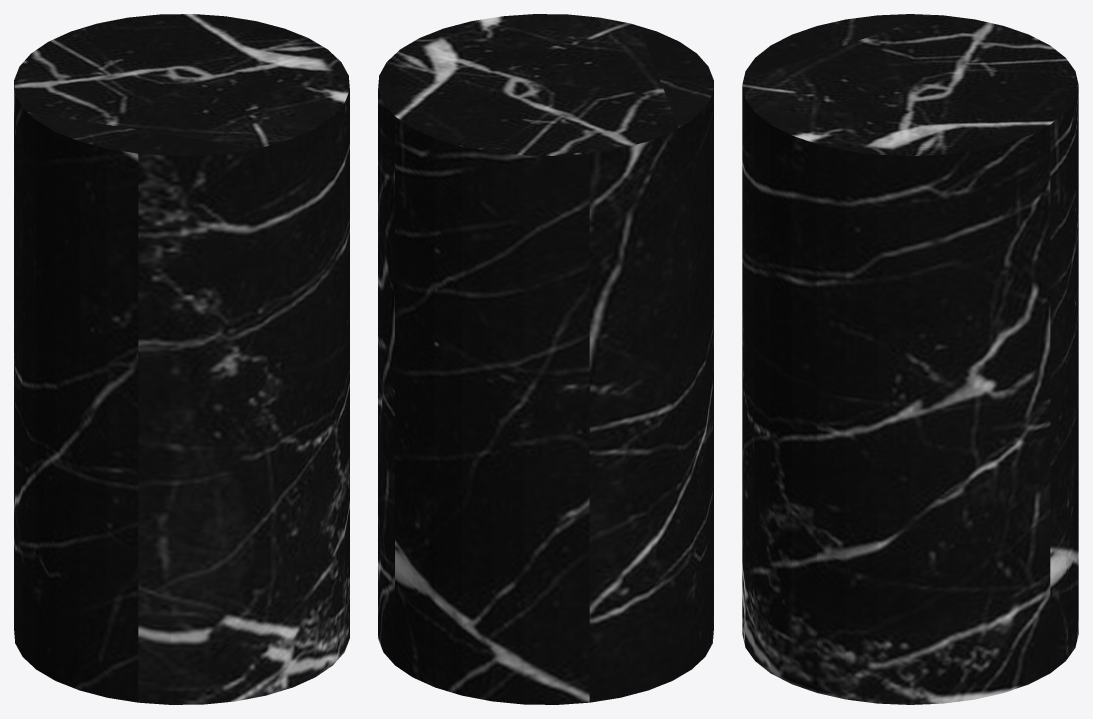
Rendered from dynamic_cylinder.obj.
3 views of the same model, side by side, from view 1: azimuth 30°, elevation 25°; view 2: azimuth 150°, elevation 25°; view 3: azimuth 270°, elevation 25° (orthographic).
Parts seen in each view (by area): view 1: Mesh_Cylinder; view 2: Mesh_Cylinder; view 3: Mesh_Cylinder.
Boxes of the visible parts, bbox=[...] form: Mesh_Cylinder: bbox=[14, 14, 349, 704]; Mesh_Cylinder: bbox=[378, 14, 713, 704]; Mesh_Cylinder: bbox=[742, 14, 1078, 704].
Bounding box in the file's own units: 2 × 3.6 × 2.
